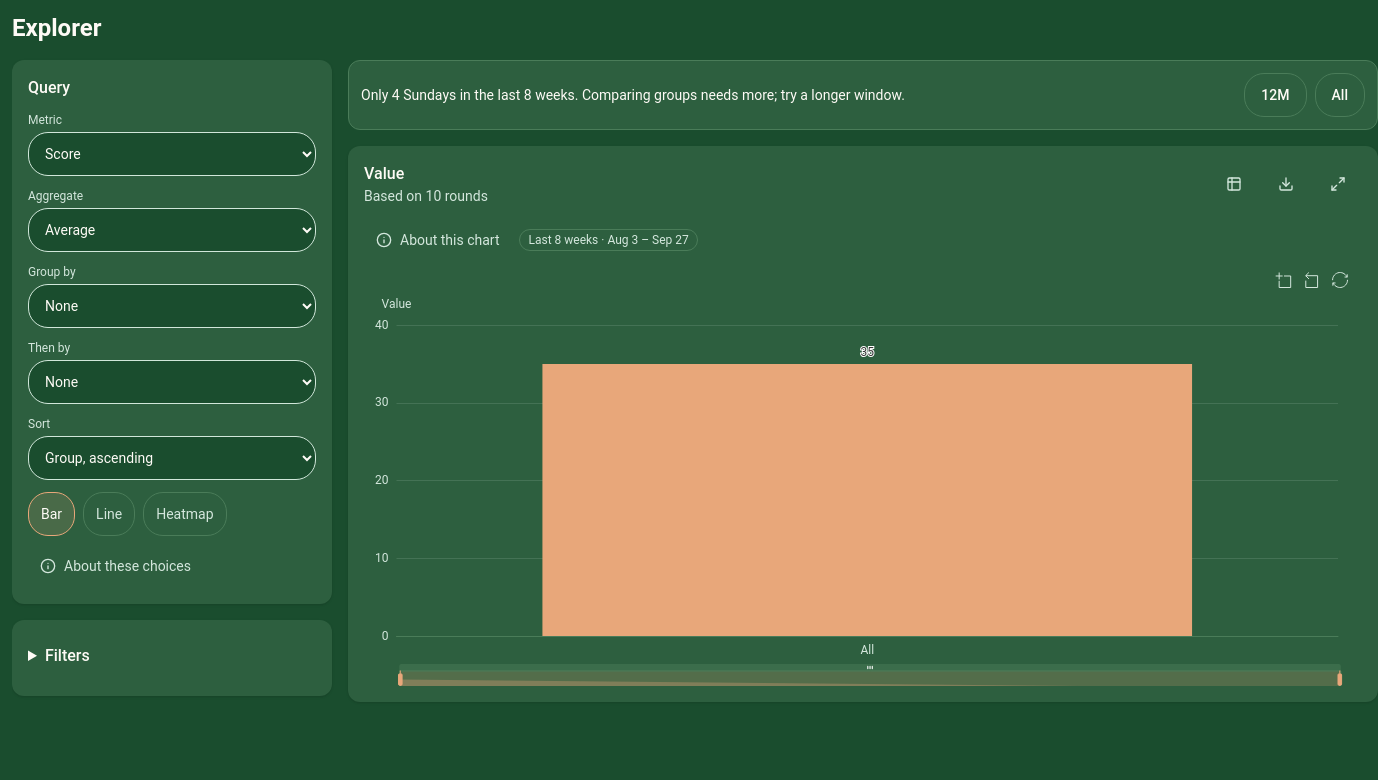
it: ExplorerPage › writes a Then by picked without a Group by
The image size is (1378, 780).
Expected: the picture named "Value" is shown, [364,266,1362,686]
Select "Year" in the dropdown labelled "Then by" at (172, 382), box [28,360,316,404]
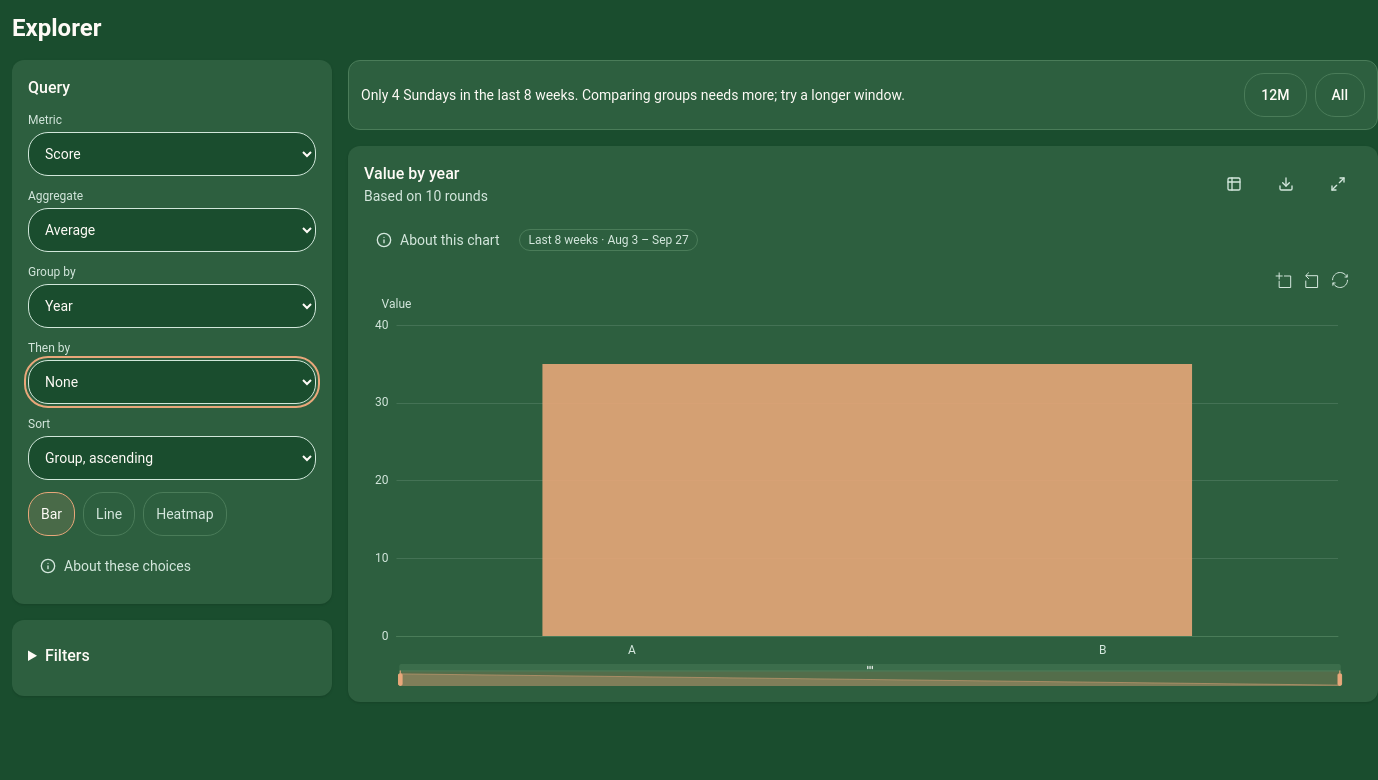
Now the picture named "Value by year" is shown, box [364,266,1362,686]
